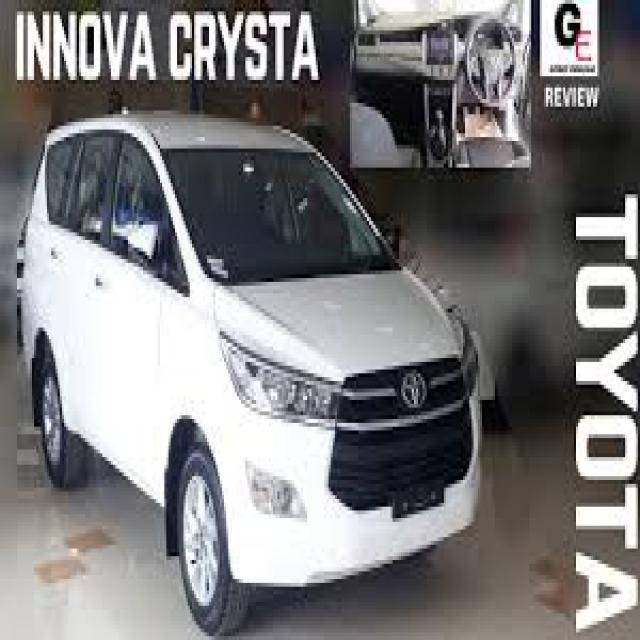light_vehicle: (22, 110, 483, 636)
